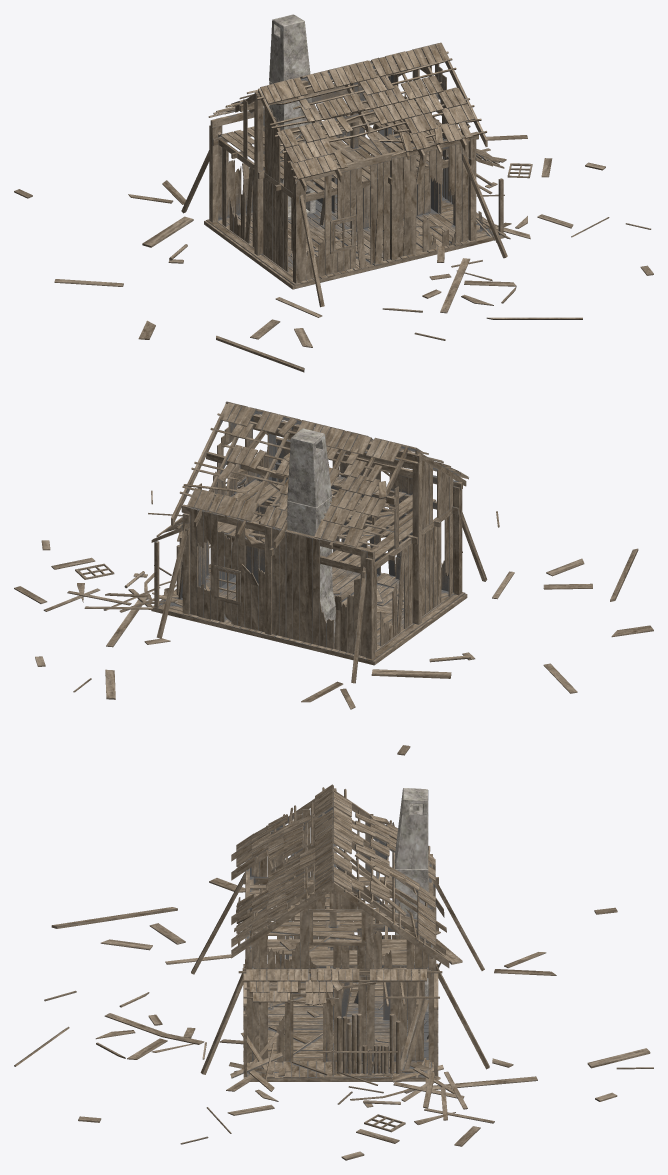
File: house-final.glb
The picture shows the model from 3 angles, top to bottom: view 1: azimuth 30°, elevation 25°; view 2: azimuth 150°, elevation 25°; view 3: azimuth 270°, elevation 25°; orthographic projection. The views are drawn at different scales.
Bounding box in the file's own units: 17.61 × 6.24 × 16.7.
Materials: 1 (1 with a texture image).
